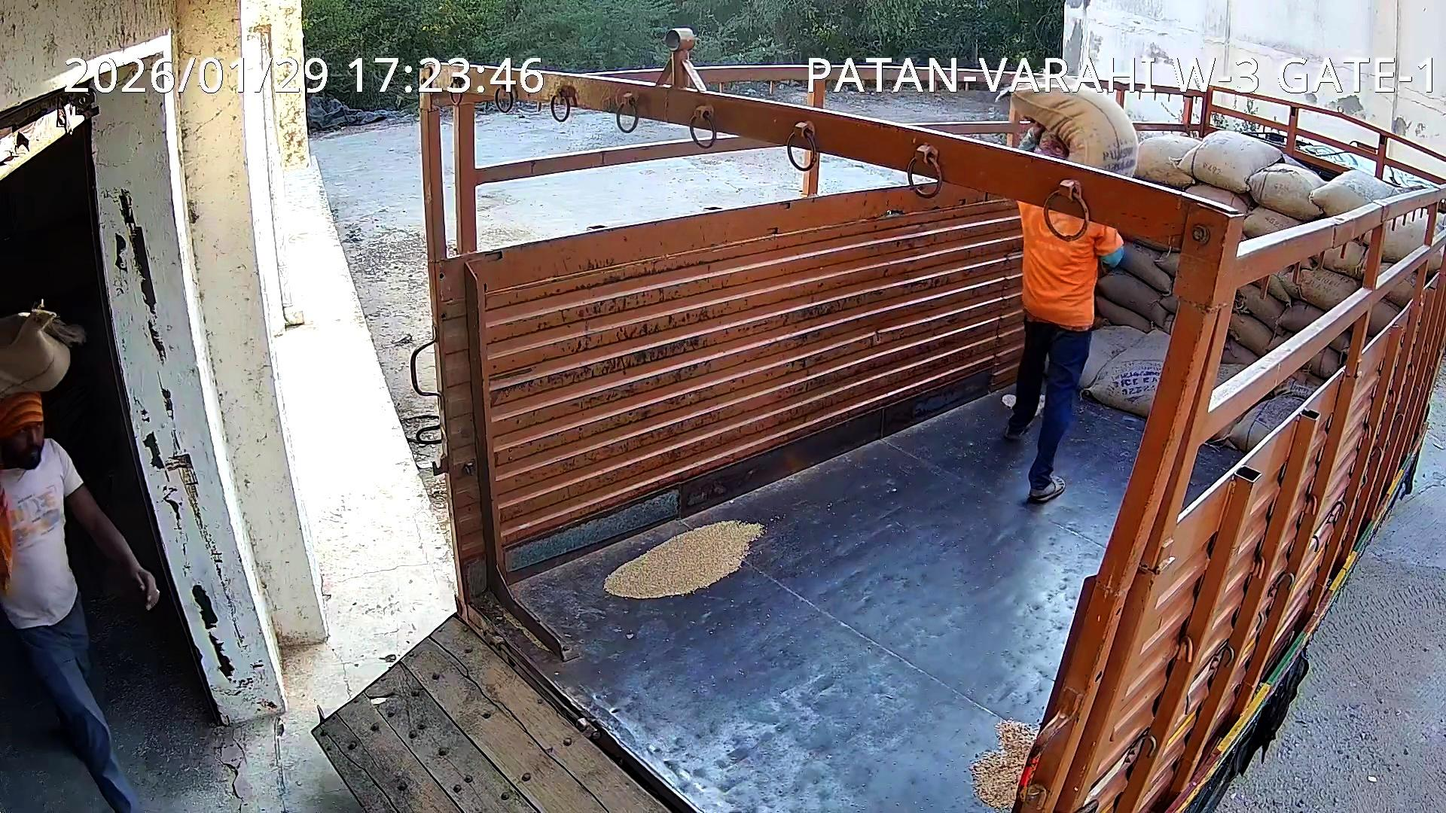Sack: (1012, 83, 1137, 176), (0, 309, 84, 397)
